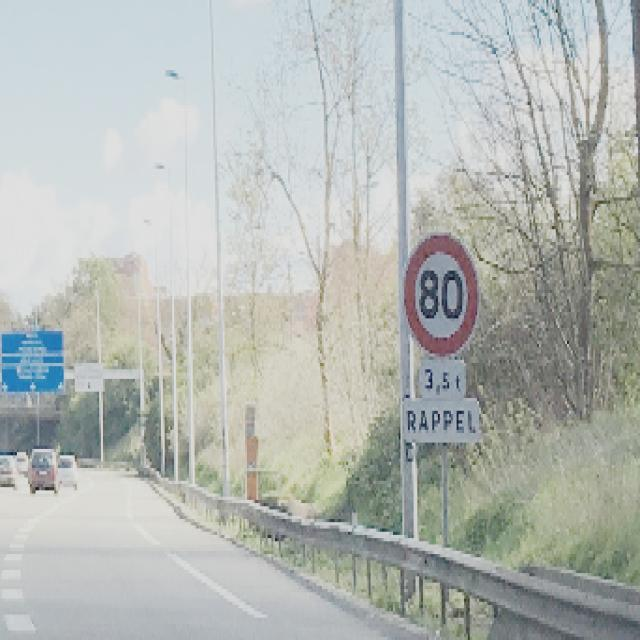speed_80: (402, 232, 482, 358)
